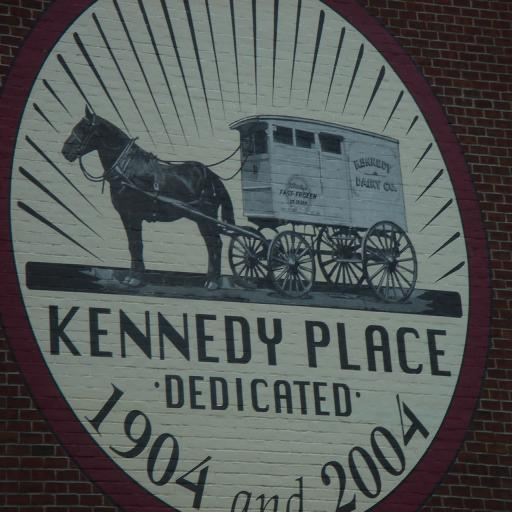horse: (61, 102, 237, 290)
